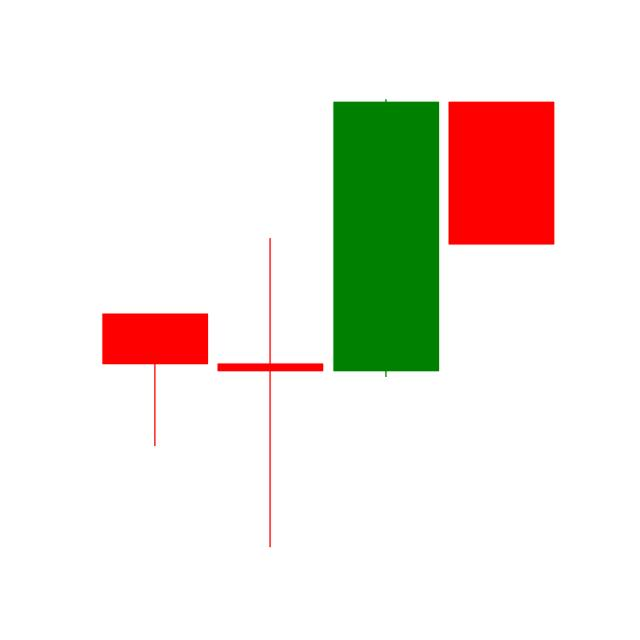Standard Doji: (216, 239, 325, 549)
